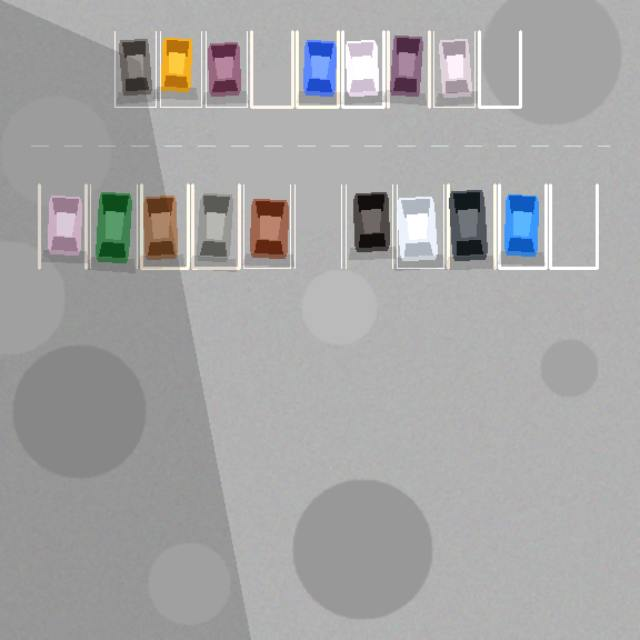space-empty: (294, 184, 341, 268), (550, 184, 597, 268), (251, 31, 292, 107), (479, 31, 520, 107)
space-occupied: (39, 184, 86, 268), (90, 184, 137, 268), (141, 184, 188, 268), (192, 184, 239, 268), (243, 184, 290, 268), (499, 184, 546, 268), (346, 184, 392, 268), (397, 184, 443, 268), (448, 184, 494, 268), (114, 31, 156, 107), (160, 31, 201, 107), (206, 31, 247, 107), (297, 31, 338, 107), (342, 31, 383, 107), (388, 31, 429, 107), (433, 31, 474, 107)
